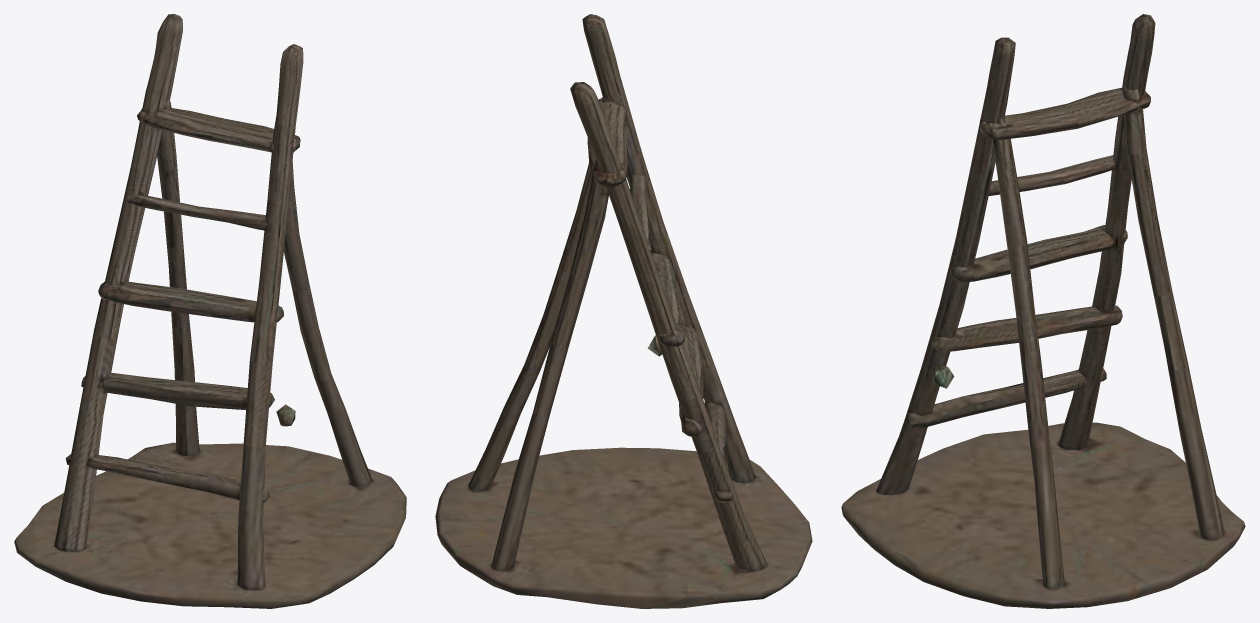
File: jd_escada.glb
The picture shows the model from 3 angles, left to right: view 1: azimuth 30°, elevation 25°; view 2: azimuth 150°, elevation 25°; view 3: azimuth 270°, elevation 25°; orthographic projection. The views are drawn at different scales.
Parts seen in each view (by area): view 1: mesh_node.003; view 2: mesh_node.003; view 3: mesh_node.003.
Boxes of the visible parts, left/top/right/bottom form: mesh_node.003: left=14, top=14, right=406, bottom=608; mesh_node.003: left=435, top=14, right=812, bottom=608; mesh_node.003: left=841, top=14, right=1245, bottom=608.
Size of the model in its own units: 0.2695 by 0.3574 by 0.2534.
Materials: 1 (1 with a texture image).
